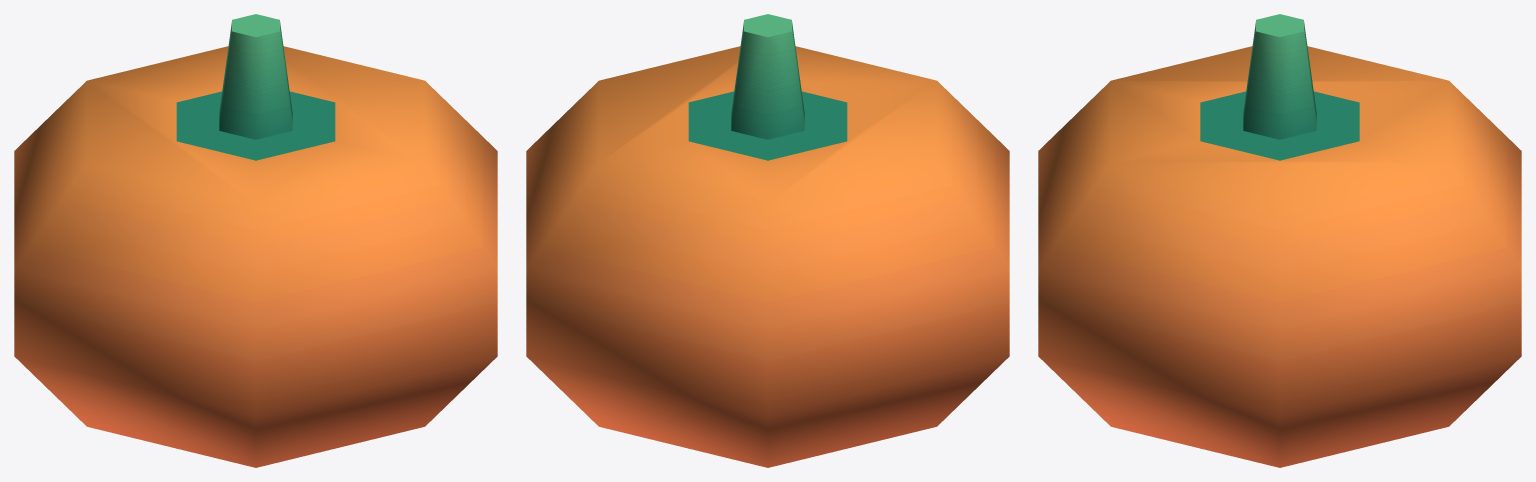
File: pumpkin-basic.glb
3 renders of one model, left to right at view 1: azimuth 30°, elevation 25°; view 2: azimuth 150°, elevation 25°; view 3: azimuth 270°, elevation 25°, orthographic.
Parts seen in each view (by area): view 1: pumpkin-basic; view 2: pumpkin-basic; view 3: pumpkin-basic.
Boxes of the visible parts, x1,y1,x2,y2 form: pumpkin-basic: (14, 14, 497, 467); pumpkin-basic: (526, 14, 1009, 467); pumpkin-basic: (1038, 14, 1521, 467).
Size of the model in its own units: 0.42 by 0.299 by 0.3638.
1 material, 1 textured.
